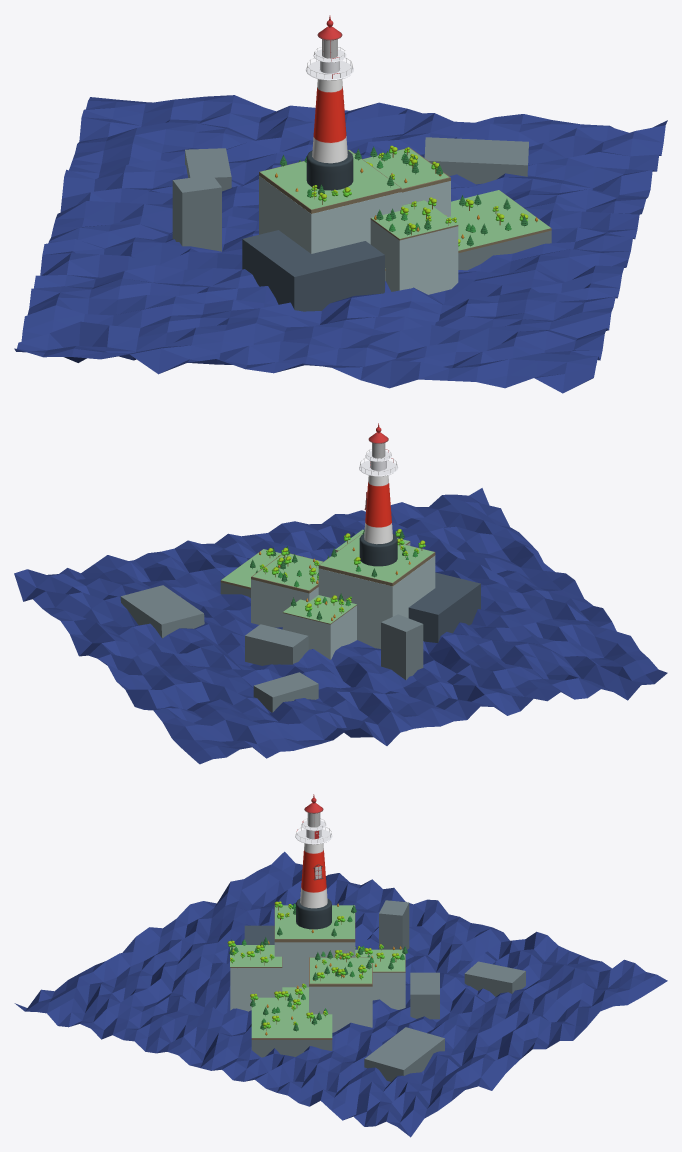
The model's file is mayak_publish_v18.fbx.
3 renders of one model, top to bottom at view 1: azimuth 30°, elevation 25°; view 2: azimuth 150°, elevation 25°; view 3: azimuth 270°, elevation 25°, orthographic. The views are drawn at different scales.
Visible parts, largest first — view 1: water, Cube_3, Cube, Cube_9, Cube_10, Cube_4, Plane_4, Plane, Cone, Plane_1, Cube_11, Tube (+7 smaller); view 2: water, Cube, Cube_3, Cube_10, Cube_4, Cube_12, Cube_2, Plane, Cube_1, Cone, Cube_11, Plane_1 (+5 smaller); view 3: water, Plane_4, Cube_10, Cube_1, Cube, Cube_9, Plane, Cube_11, Cone, Cube_4, Cube_12, Plane_1 (+8 smaller).
Boxes of the visible parts, bbox=[...] form: water: bbox=[14, 95, 667, 393]; Cube_3: bbox=[242, 230, 384, 311]; Cube: bbox=[259, 176, 401, 253]; Cube_9: bbox=[370, 220, 458, 294]; Cube_10: bbox=[424, 137, 528, 184]; Cube_4: bbox=[172, 175, 221, 251]; Plane_4: bbox=[385, 190, 550, 268]; Plane: bbox=[260, 150, 400, 209]; Cone: bbox=[312, 79, 347, 163]; Plane_1: bbox=[363, 148, 448, 188]; Cube_11: bbox=[185, 148, 231, 191]; Tube: bbox=[306, 150, 353, 190]; water: bbox=[14, 488, 667, 764]; Cube: bbox=[318, 555, 435, 648]; Cube_3: bbox=[408, 572, 480, 642]; Cube_10: bbox=[120, 585, 204, 638]; Cube_4: bbox=[381, 614, 423, 731]; Cube_12: bbox=[245, 624, 308, 665]; Cube_2: bbox=[282, 605, 356, 659]; Plane: bbox=[320, 534, 434, 582]; Cube_1: bbox=[251, 579, 318, 627]; Cone: bbox=[364, 475, 392, 544]; Cube_11: bbox=[253, 672, 318, 712]; Plane_1: bbox=[253, 553, 322, 590]; water: bbox=[14, 851, 667, 1137]; Plane_4: bbox=[251, 987, 332, 1037]; Cube_10: bbox=[364, 1027, 444, 1081]; Cube_1: bbox=[309, 986, 372, 1032]; Cube: bbox=[274, 942, 355, 987]; Cube_9: bbox=[230, 968, 282, 1011]; Plane: bbox=[275, 905, 354, 938]; Cube_11: bbox=[464, 961, 525, 996]; Cone: bbox=[300, 843, 327, 908]; Cube_4: bbox=[379, 900, 409, 949]; Cube_12: bbox=[410, 972, 439, 1019]; Plane_1: bbox=[310, 957, 371, 983].
Size of the model in its own units: 175204 by 71213 by 176836.
24 materials, 1 textured.
